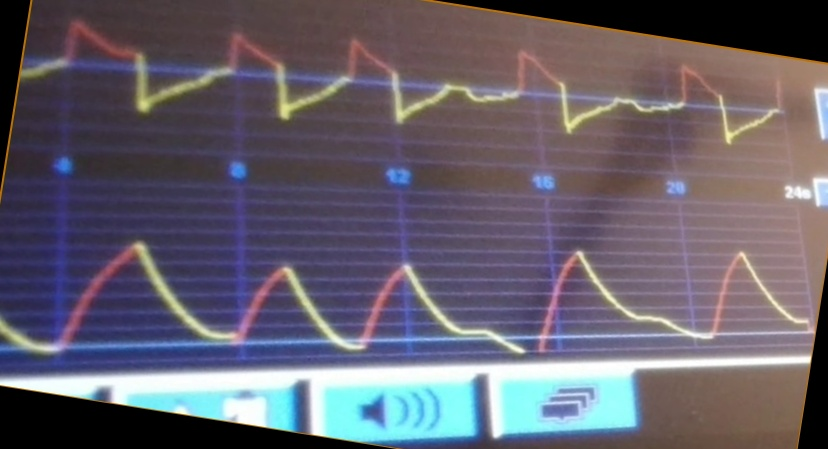Ineffective_effort Flow: (28, 16, 783, 144)
Ineffective_effort Volume: (2, 231, 809, 354)
